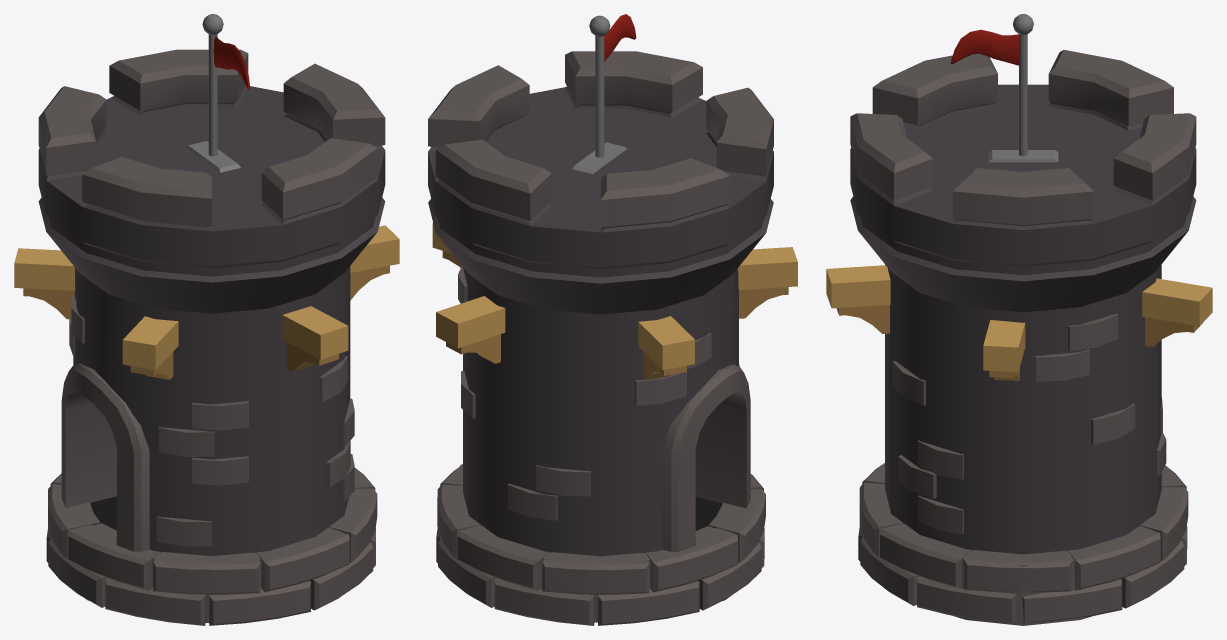
File: SM_Tower.fbx
3 views of the same model, side by side, from view 1: azimuth 30°, elevation 25°; view 2: azimuth 150°, elevation 25°; view 3: azimuth 270°, elevation 25° (orthographic).
Visible parts, largest first — view 1: SM_Tower; view 2: SM_Tower; view 3: SM_Tower.
Boxes of the visible parts, x1,y1,x2,y2 form: SM_Tower: [14, 14, 399, 625]; SM_Tower: [428, 14, 797, 625]; SM_Tower: [826, 14, 1212, 625].
Bounding box in the file's own units: 8.98 × 14.6 × 9.44.
